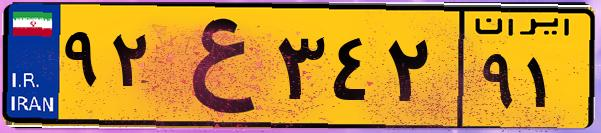1: (525, 38, 570, 115)
2: (385, 28, 445, 110), (110, 28, 158, 98)
3: (270, 28, 330, 110)
4: (330, 28, 385, 110)
9: (57, 26, 110, 100), (475, 38, 525, 113)
ع: (158, 12, 270, 120)
